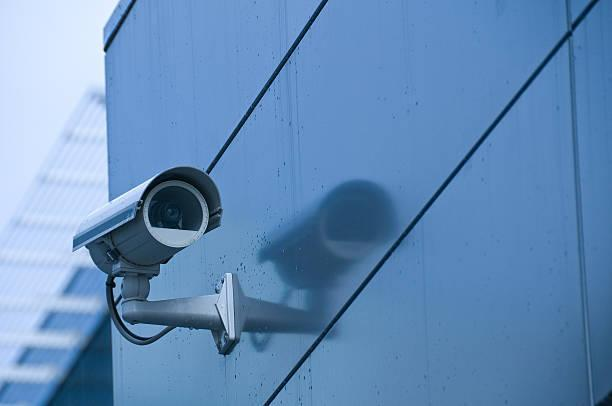camera: (54, 157, 232, 323)
